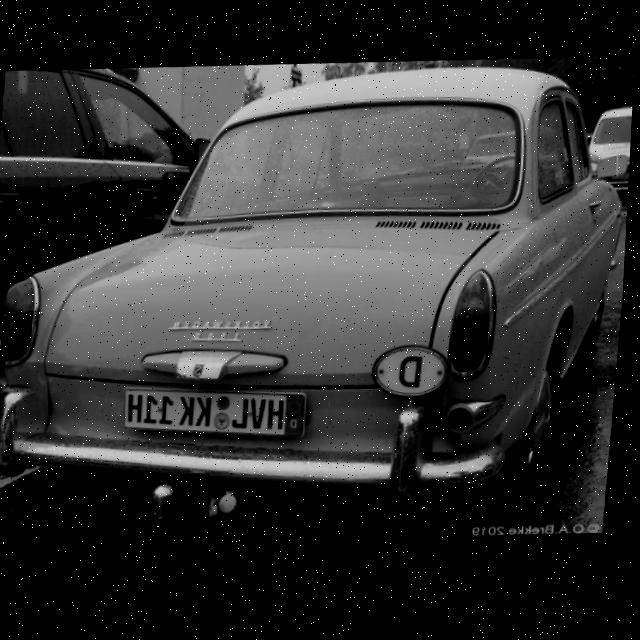license-plates: (121, 388, 305, 438)
